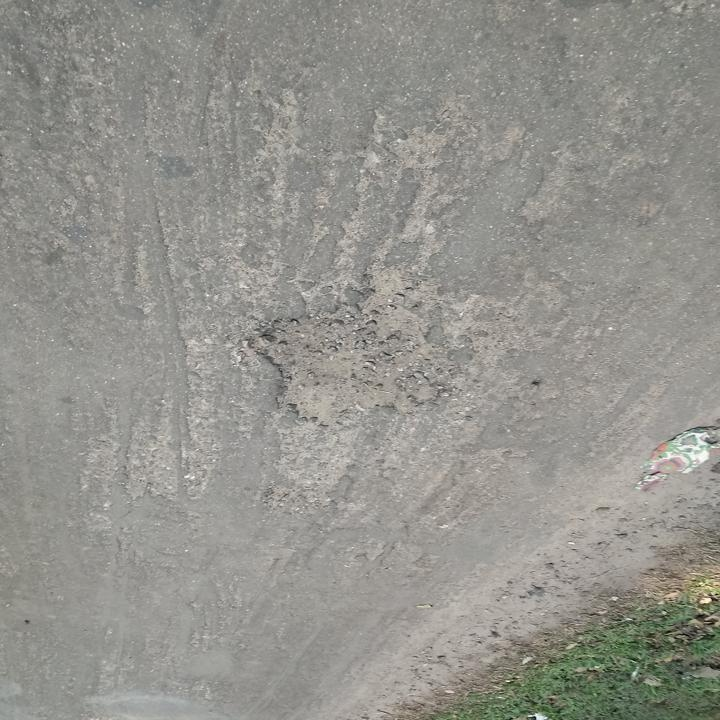pothole: (252, 301, 460, 431)
